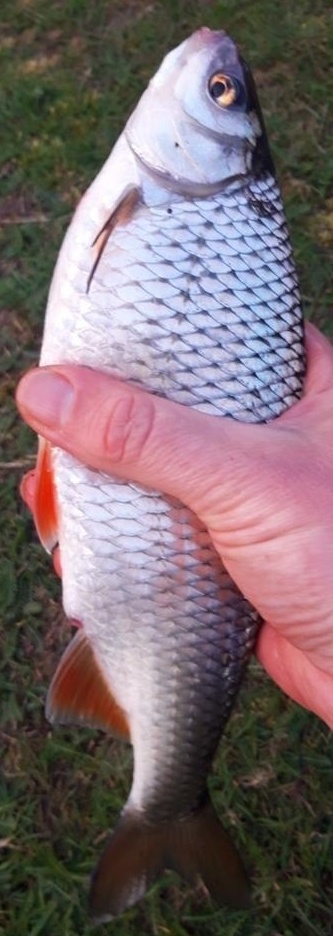Scardinius erythrophthalmus: (20, 20, 313, 916)
